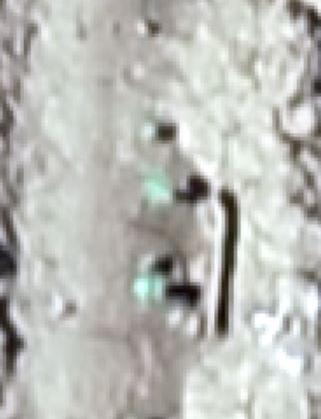cotton: (134, 275, 165, 299), (144, 172, 168, 198)
